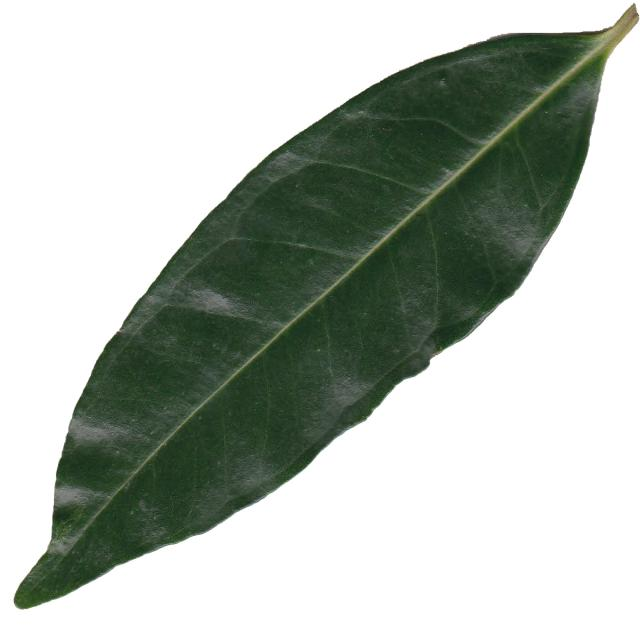Medicinal-Rose Apple: (14, 3, 640, 609)
